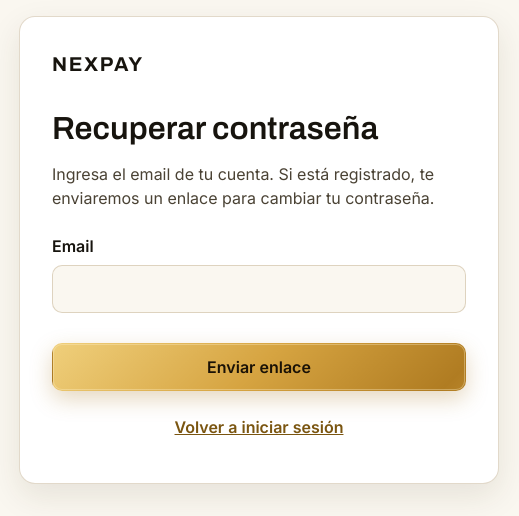
Test case: recuperación de contraseña › envía el email y muestra una respuesta que no revela si la cuenta existe
In the field labelled "Email": (259, 289) 52,265 -> 466,313, type "ana@nexpay.com"
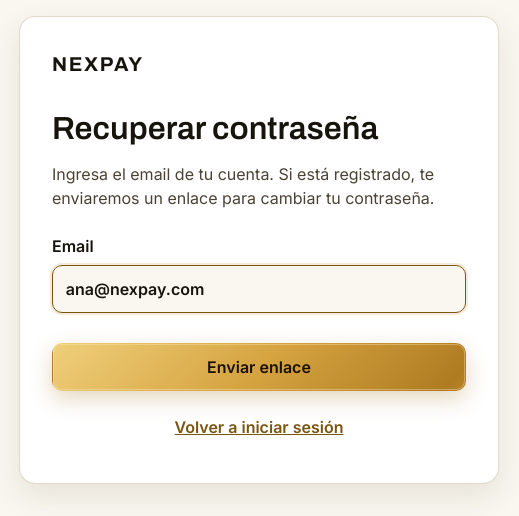
Click the button "Enviar enlace": click(259, 368) 52,344 -> 466,392
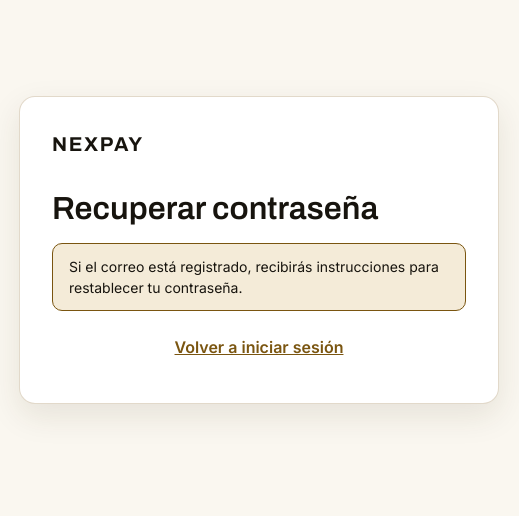
Result: the message shows "Si el correo está registrado, recibirás instrucciones para restablecer tu contraseña." at 69,258 -> 439,296
